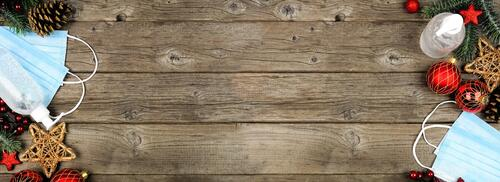sanitizer: (1, 50, 64, 130)
